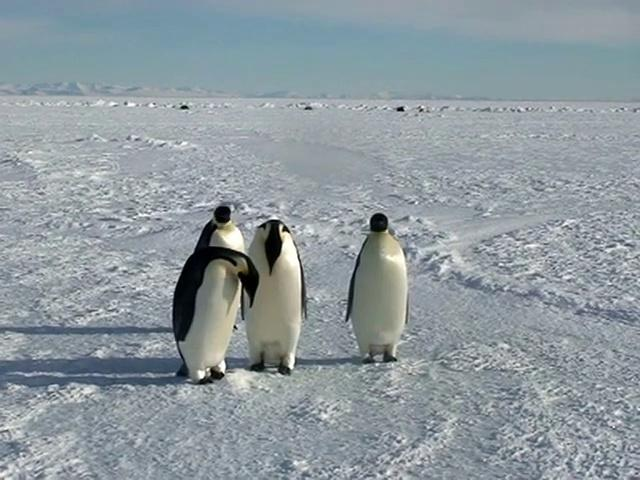animal: (346, 214, 410, 364)
